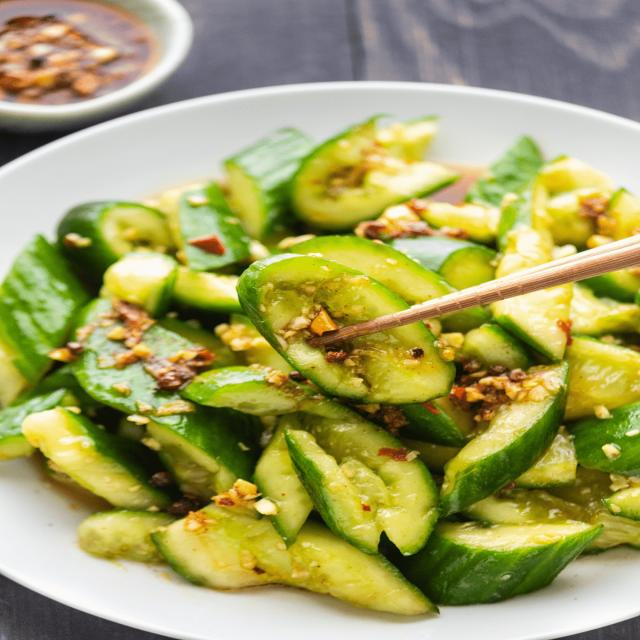Pickle: (75, 299, 261, 500), (238, 254, 454, 405), (150, 504, 437, 614), (101, 251, 292, 371), (441, 361, 568, 516), (291, 115, 458, 230), (399, 521, 602, 605), (22, 406, 171, 510), (289, 521, 437, 615), (58, 201, 178, 315), (0, 235, 90, 385), (285, 430, 381, 554), (291, 235, 456, 304), (225, 128, 315, 239), (56, 201, 172, 282), (375, 454, 439, 554), (491, 284, 574, 361), (570, 402, 640, 476), (439, 246, 497, 289), (141, 325, 197, 365), (180, 269, 236, 309), (444, 308, 489, 332), (501, 192, 519, 211)
